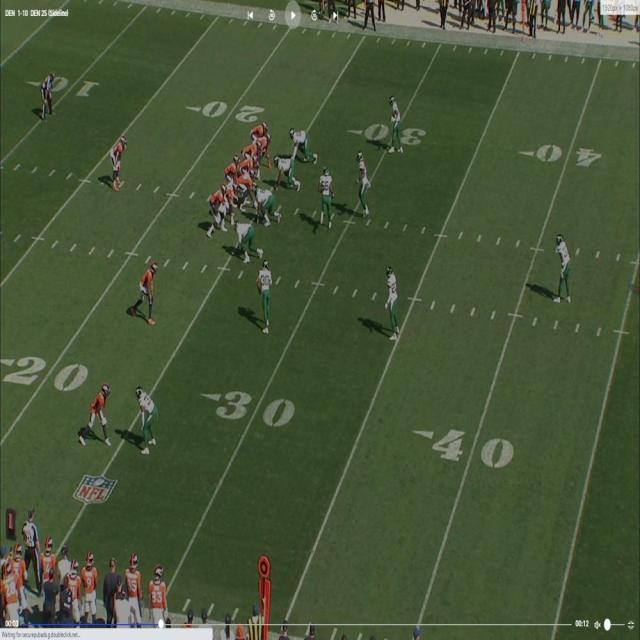center: (240, 169, 258, 208)
db: (137, 384, 159, 452), (258, 262, 273, 333), (557, 236, 568, 302), (389, 94, 402, 149), (389, 266, 399, 312)
lb: (319, 166, 334, 223), (355, 154, 369, 206)
qb: (228, 152, 240, 184)
skill: (86, 382, 110, 437), (138, 264, 157, 324), (110, 134, 129, 191), (257, 134, 275, 171), (253, 123, 269, 137)
